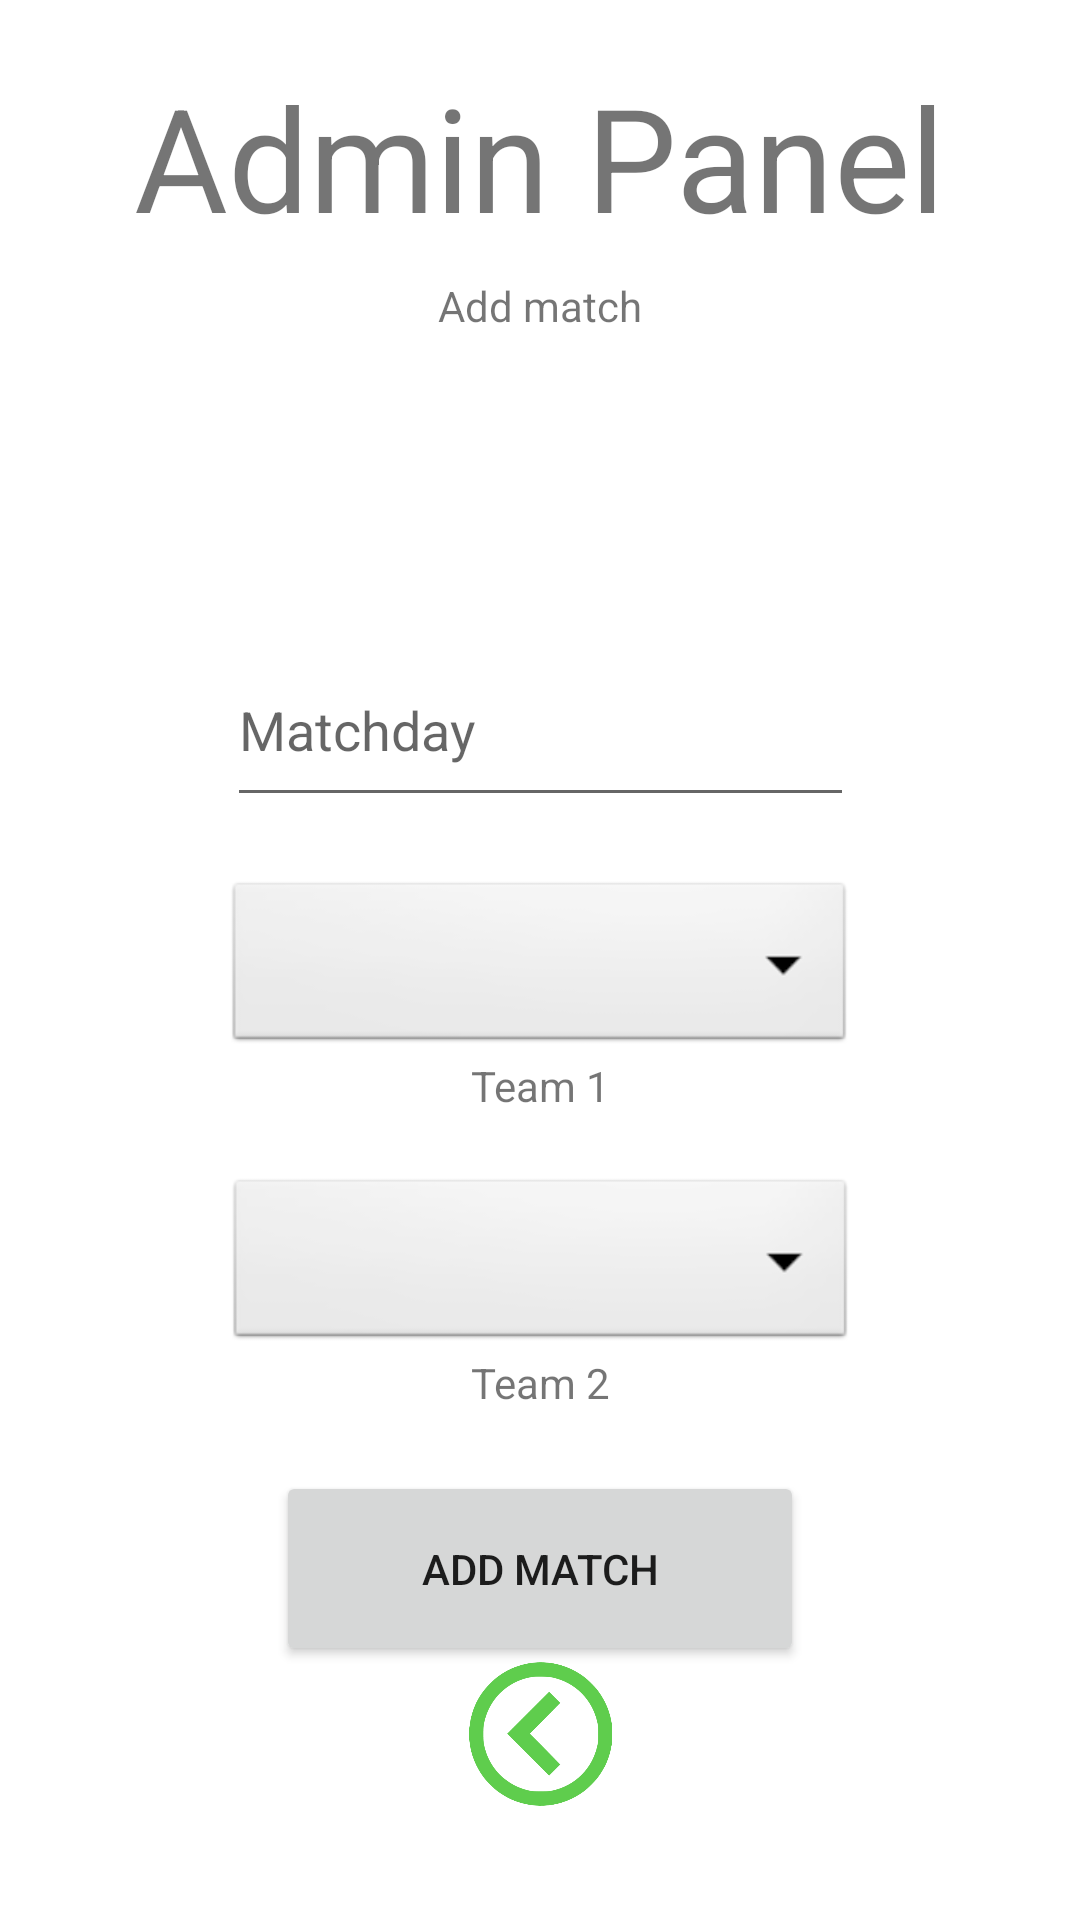

Where icons sit on this 1080 × 1920 app screen, as (x1, y1, x2, y2):
back: (469, 1662, 612, 1806)
